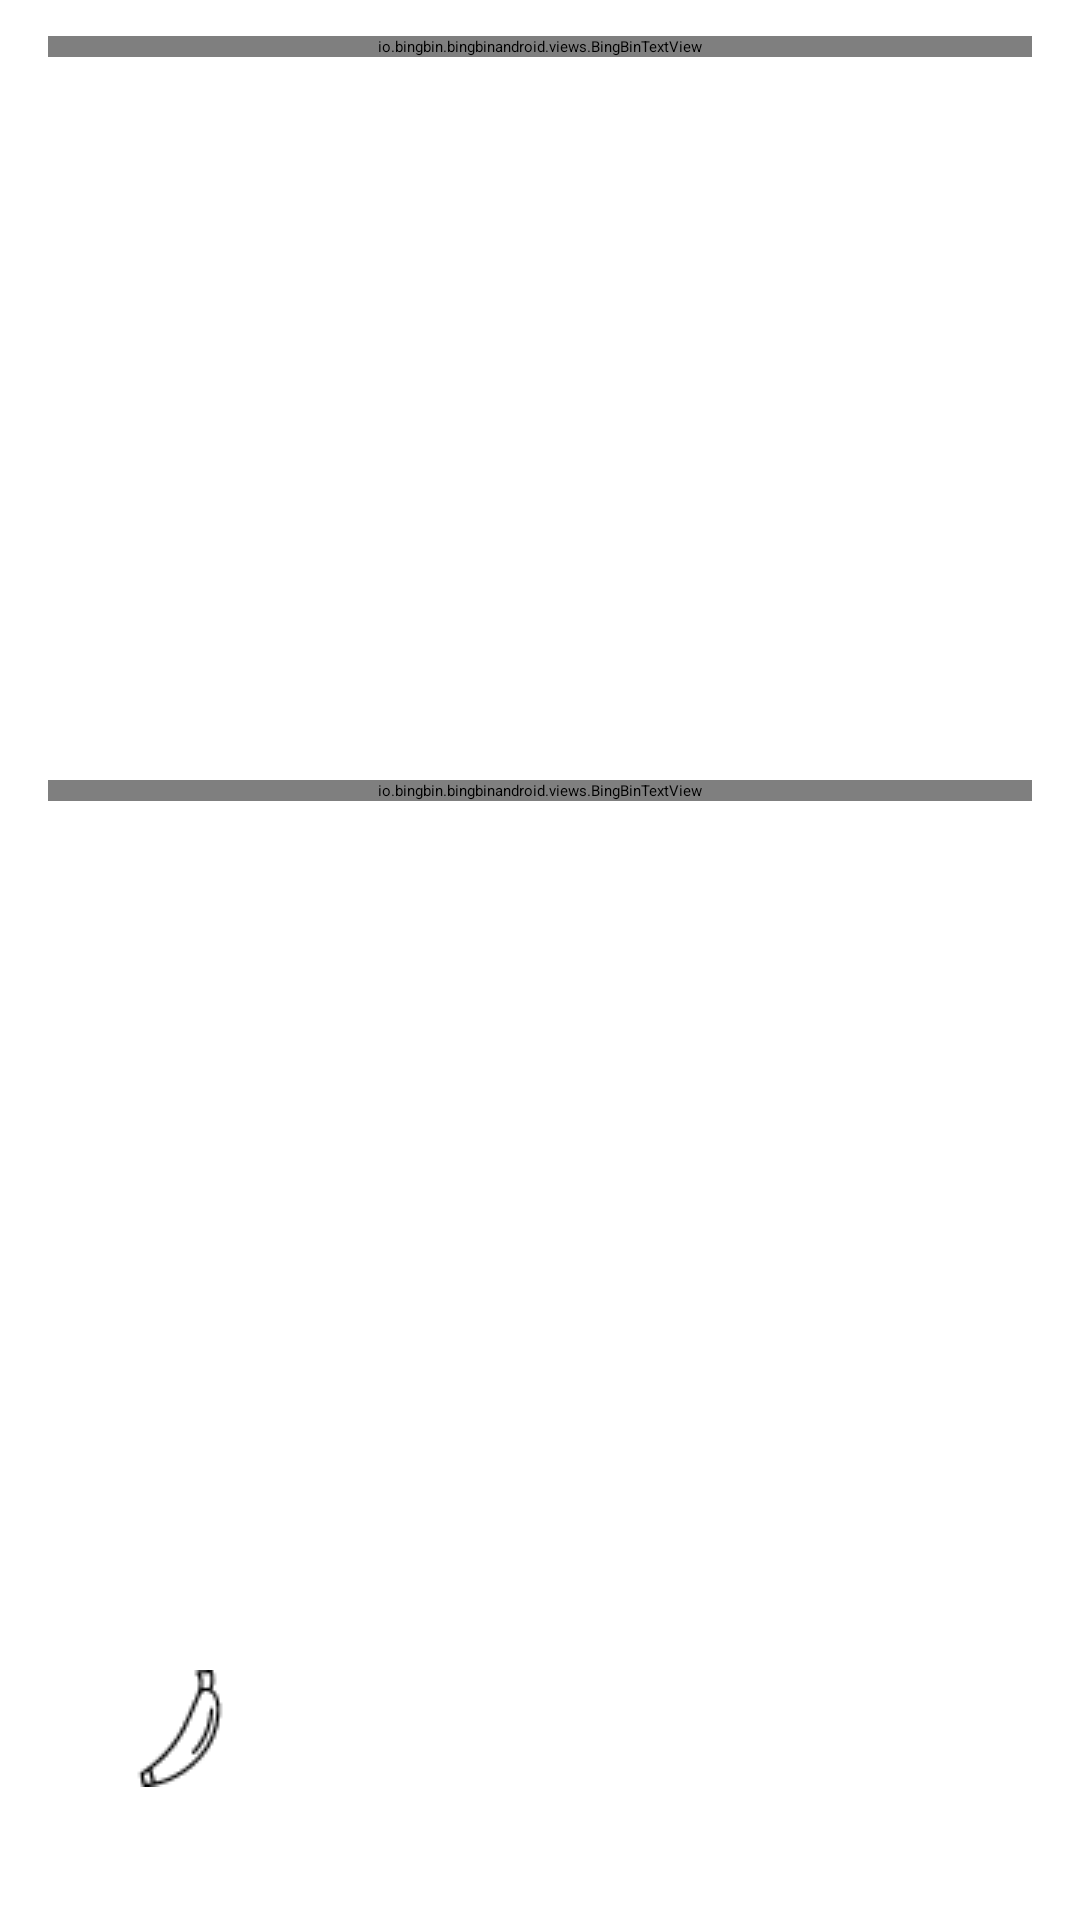

Screen size 1080*1920. Icon name, then its box in pixels as [x1,y1,x2,y2]:
catg food: [138,1670,222,1787]
